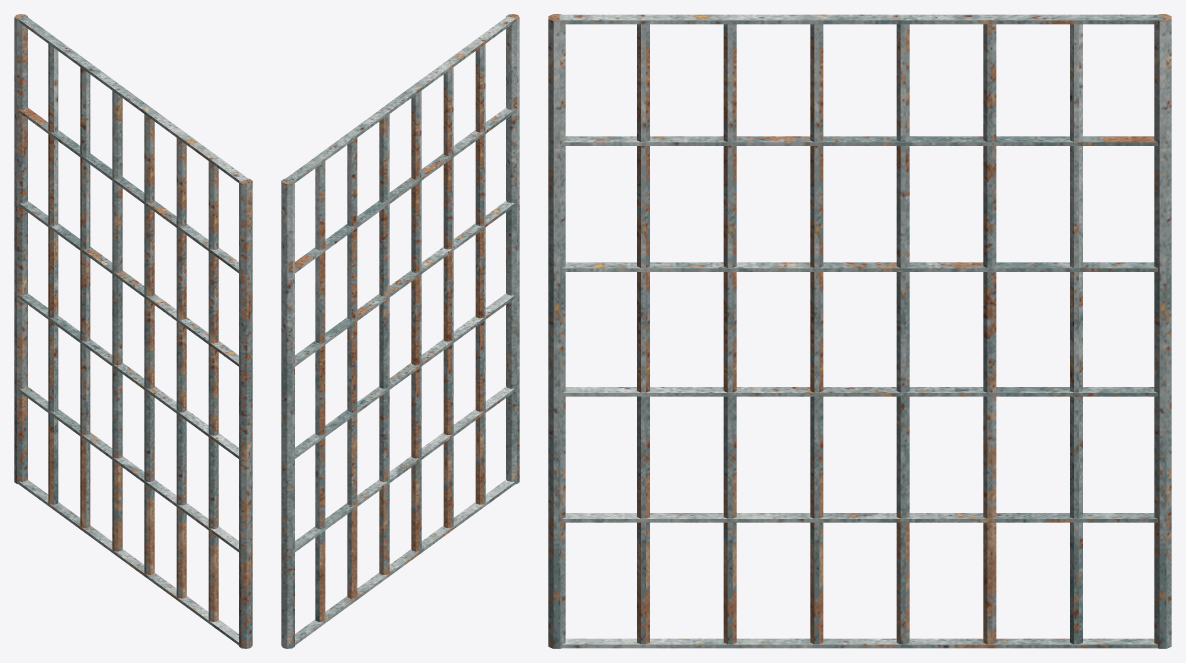
The model's file is cell_bars.glb.
3 views of the same model, side by side, from view 1: azimuth 30°, elevation 25°; view 2: azimuth 150°, elevation 25°; view 3: azimuth 270°, elevation 25° (orthographic). The views are drawn at different scales.
Visible parts, largest first — view 1: cell_wall; view 2: cell_wall; view 3: cell_wall.
Boxes of the visible parts, x1,y1,x2,y2 form: cell_wall: (14,14,252,648); cell_wall: (281,14,519,648); cell_wall: (548,14,1171,648).
Bounding box in the file's own units: 0.1 × 4 × 3.6.
1 material, 1 textured.
